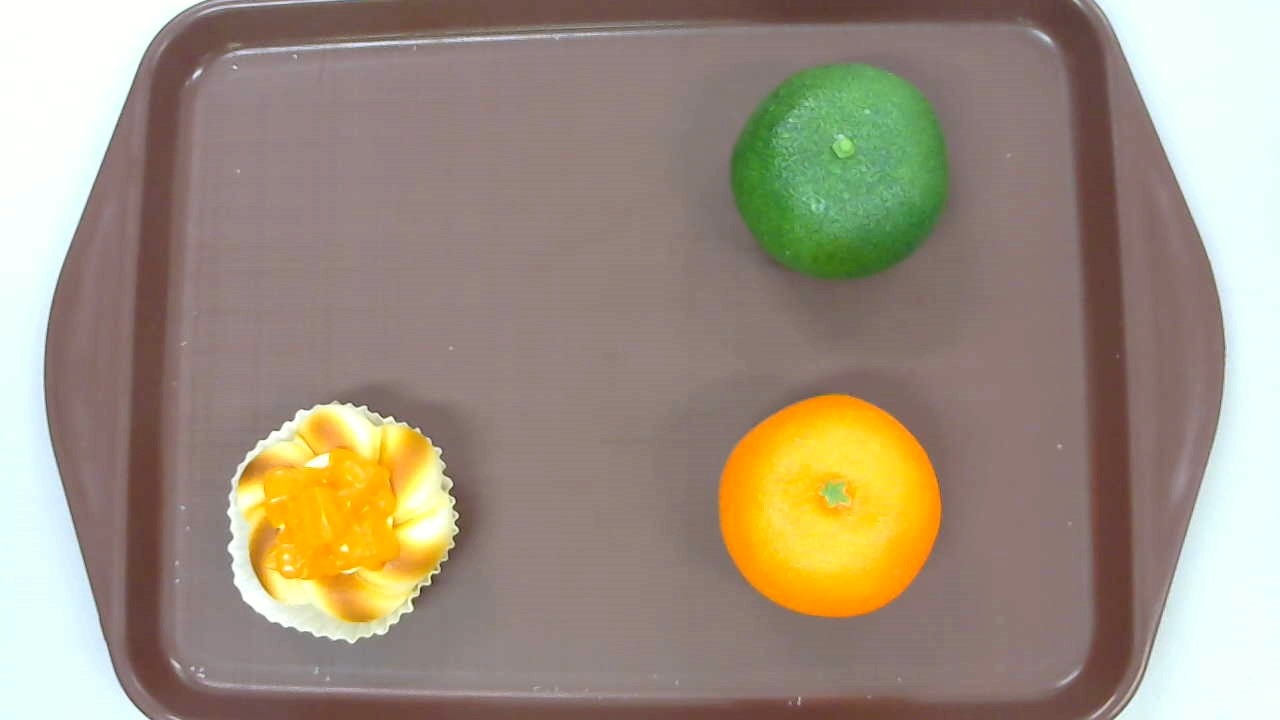green orange: (729, 63, 950, 280)
mango tart: (225, 401, 460, 643)
orange: (719, 391, 940, 619)
